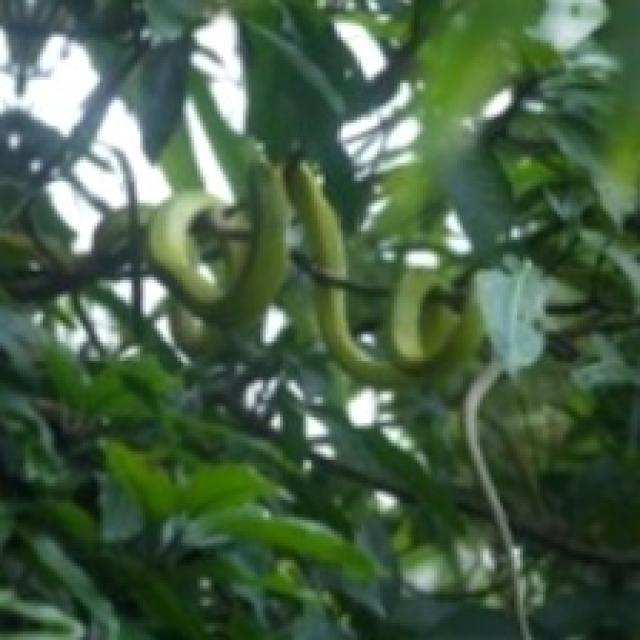red-tailed green ratsnake: (146, 160, 480, 383), (286, 163, 480, 383), (149, 160, 286, 326)
